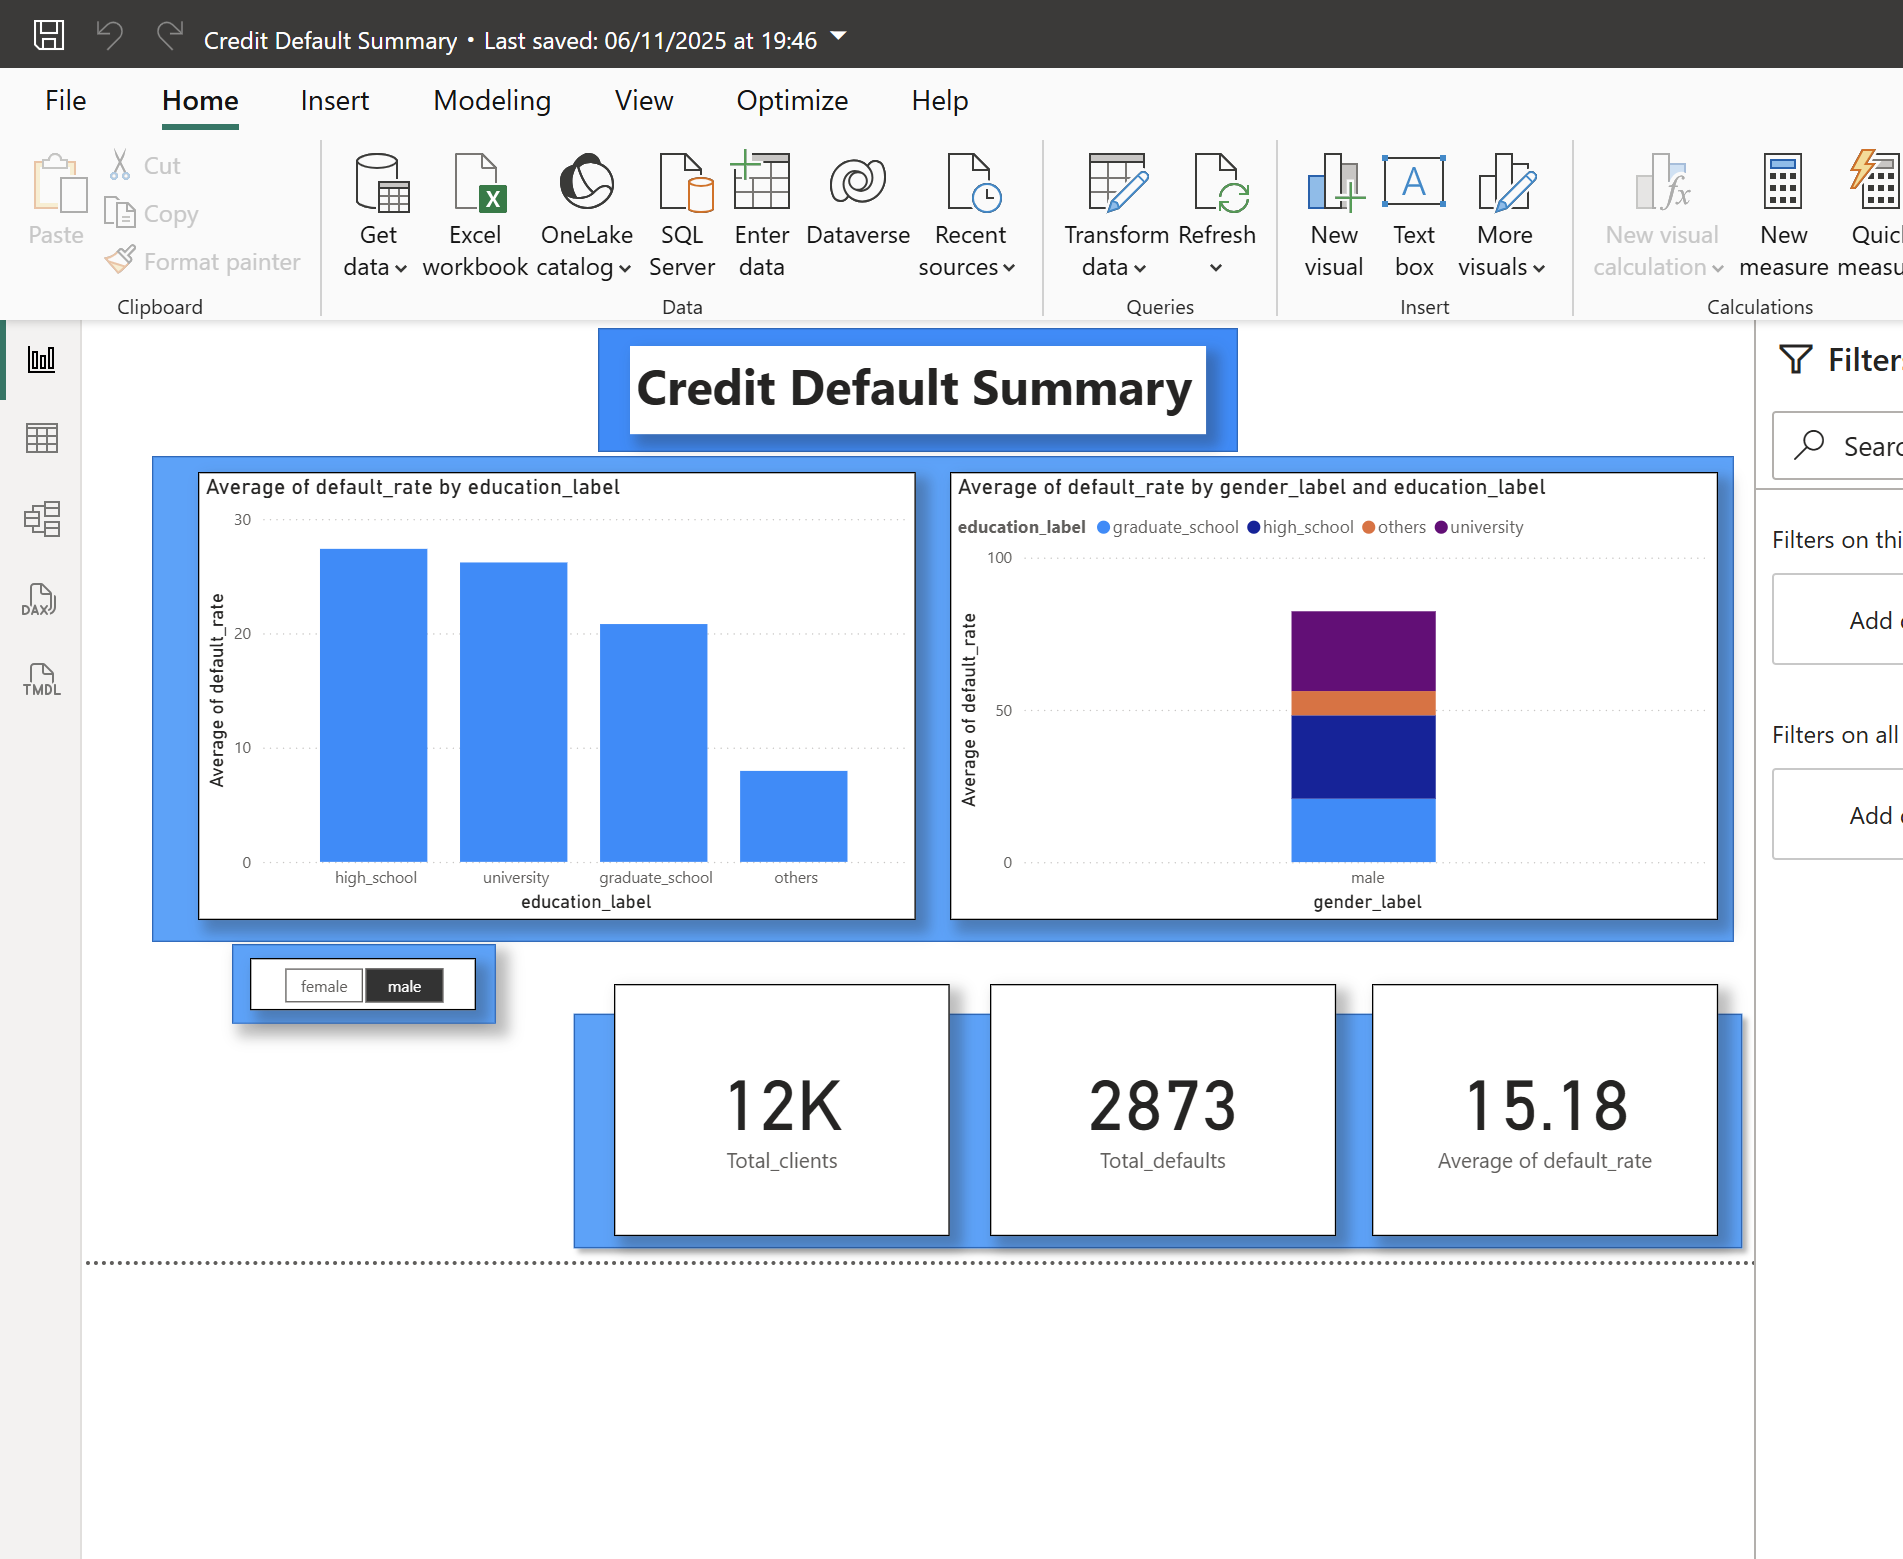

What the dashboard file says about the page in this screenshot:
{"tool":"powerbi","page":{"name":"Page 1","canvas":[1280,720],"ordinal":0},"visuals":[{"type":"shape","box":[53.6,104.1,1211.1,372.1],"z":0},{"type":"shape","box":[114.8,477.7,202.1,61.2],"z":1000},{"type":"shape","box":[367.5,522.1,912.5,197.5],"z":2000},{"type":"columnChart","fields":{"Category":["credit_summary.education_label"],"Y":["Avg(credit_summary.default_rate)"]},"box":[88.8,116.4,549.7,343],"z":3000},{"type":"columnChart","fields":{"Category":["credit_summary.gender_label"],"Y":["Avg(credit_summary.default_rate)"],"Series":["credit_summary.education_label"]},"box":[664.5,116.4,587.9,343],"z":4000},{"type":"card","fields":{"Values":["Sum(credit_summary.total_clients)"]},"box":[407.3,508.3,257.2,192.9],"z":5000},{"type":"card","fields":{"Values":["Sum(credit_summary.total_defaults)"]},"box":[695.1,508.3,264.9,192.9],"z":6000},{"type":"card","fields":{"Values":["Avg(credit_summary.default_rate)"]},"box":[987.6,508.3,264.9,192.9],"z":7000},{"type":"shape","box":[395,6.1,490,94.9],"z":8000},{"type":"textbox","box":[419.5,19.9,441,67.4],"z":9000},{"type":"slicer","fields":{"Values":["credit_summary.gender_label"]},"box":[128.6,488.4,173,39.8],"z":10000}]}

Visuals, with their boxes on the page's 1280x720 design canvas (x1, y1, x2, y2). These are canvas units, not pixel positions in the 1903x1559 screenshot, which may show the page scaled, cropped or inside an application window:
shape: box=[54, 104, 1265, 476]
shape: box=[115, 478, 317, 539]
shape: box=[368, 522, 1280, 720]
columnChart - credit_summary.education_label x Avg(credit_summary.default_rate): box=[89, 116, 638, 459]
columnChart - credit_summary.gender_label x Avg(credit_summary.default_rate): box=[664, 116, 1252, 459]
card - Sum(credit_summary.total_clients): box=[407, 508, 664, 701]
card - Sum(credit_summary.total_defaults): box=[695, 508, 960, 701]
card - Avg(credit_summary.default_rate): box=[988, 508, 1252, 701]
shape: box=[395, 6, 885, 101]
textbox: box=[420, 20, 860, 87]
slicer - credit_summary.gender_label: box=[129, 488, 302, 528]
